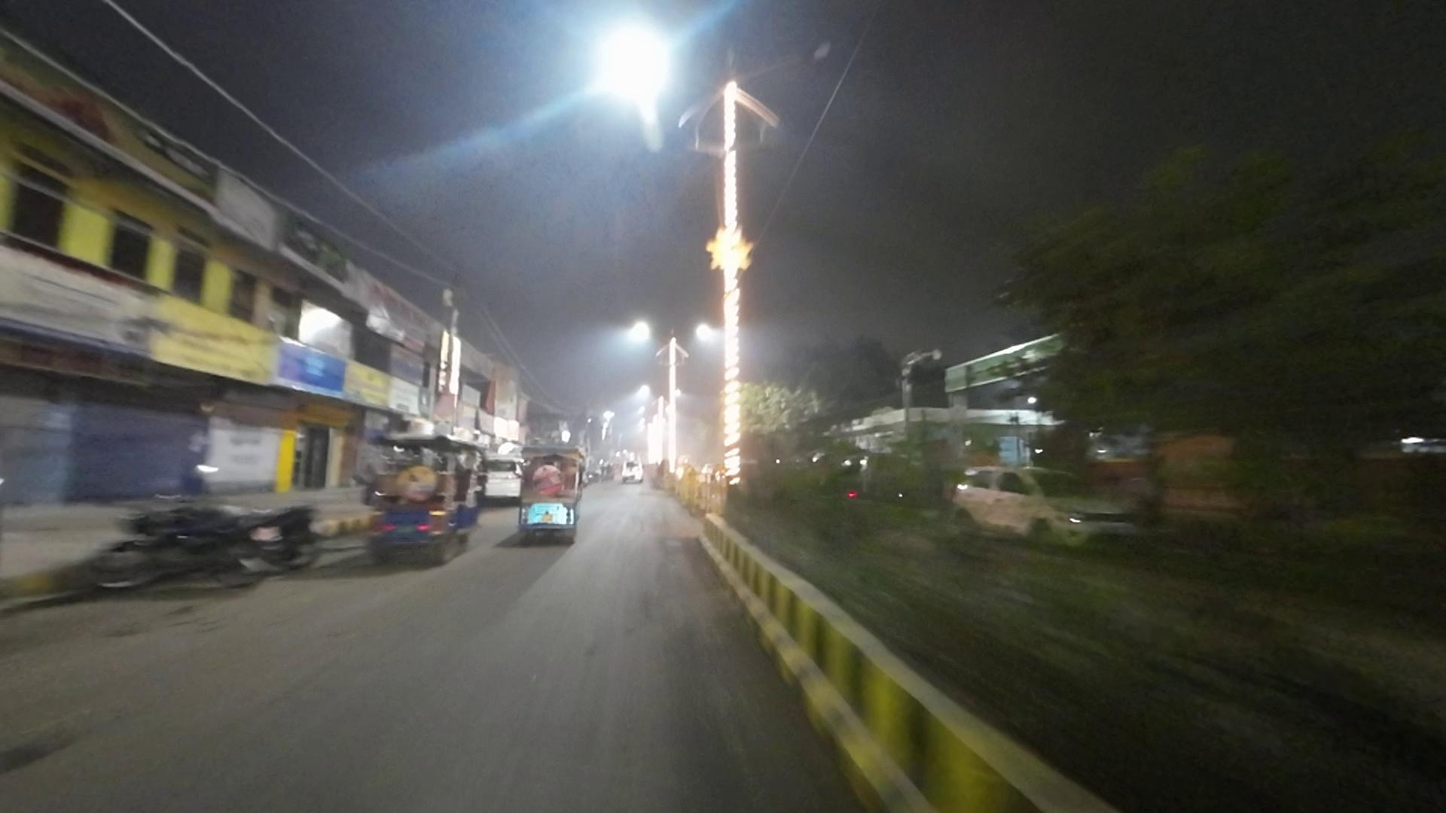streetlight: (755, 40, 835, 73)
